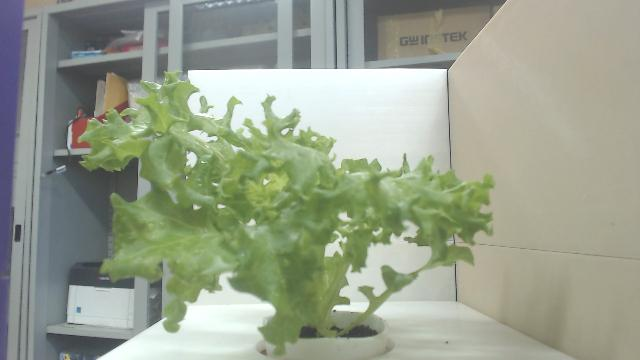Harvest Stage: (78, 72, 496, 356)
